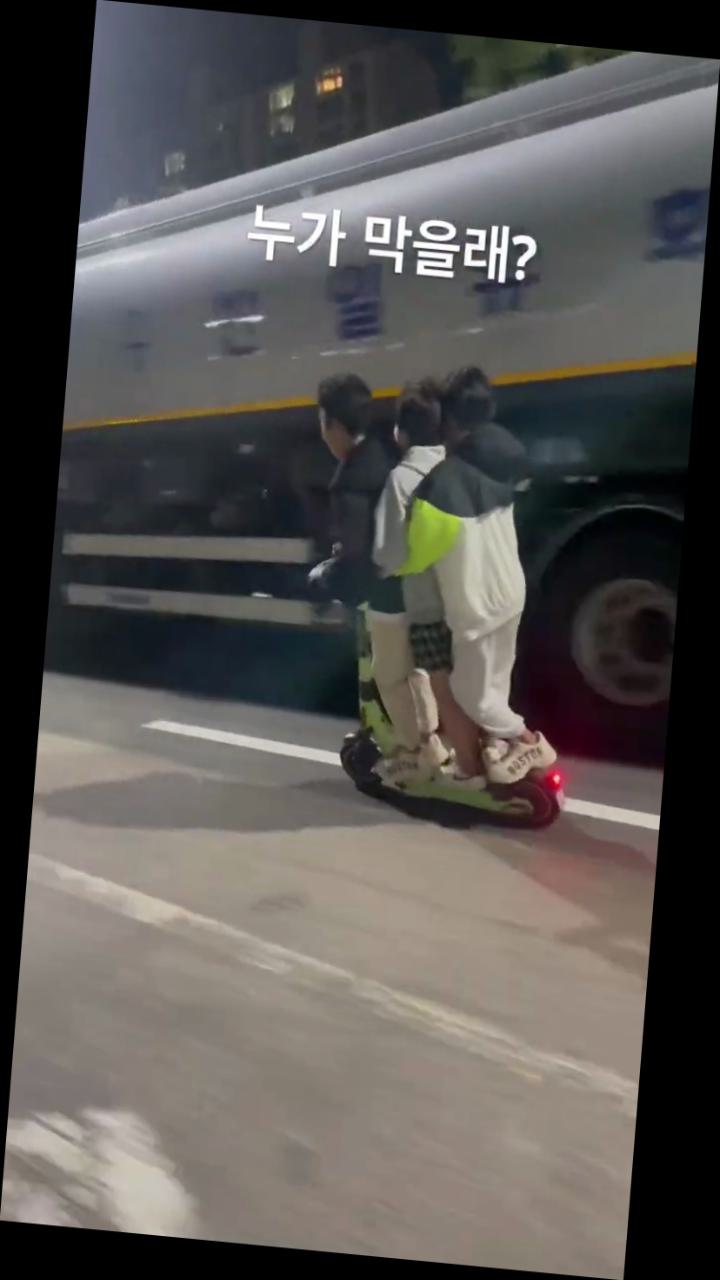multiple: (274, 348, 619, 848)
